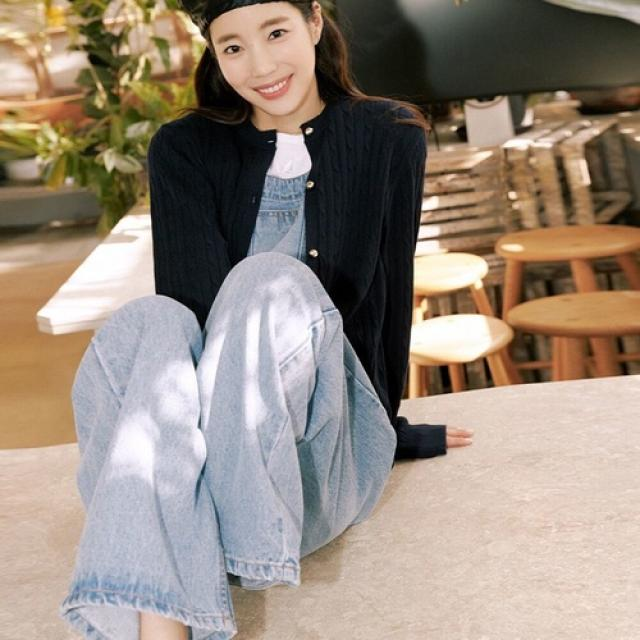Blouse_deep: (63, 246, 399, 608)
